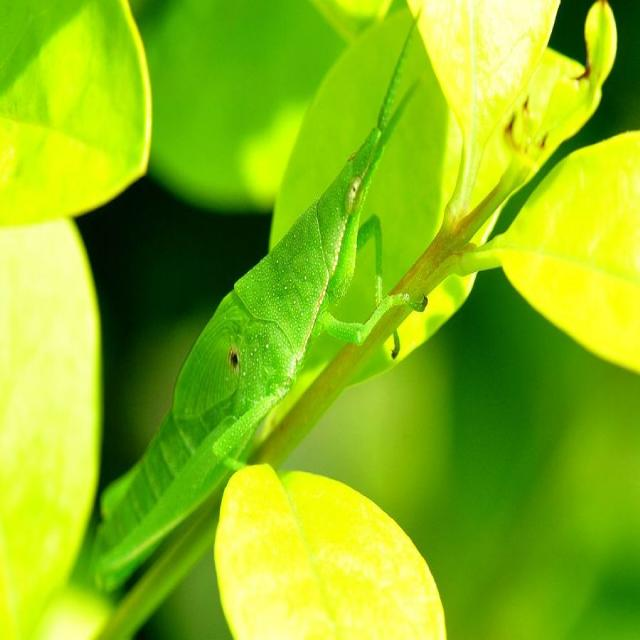ZhaMeng: (68, 113, 423, 599)
